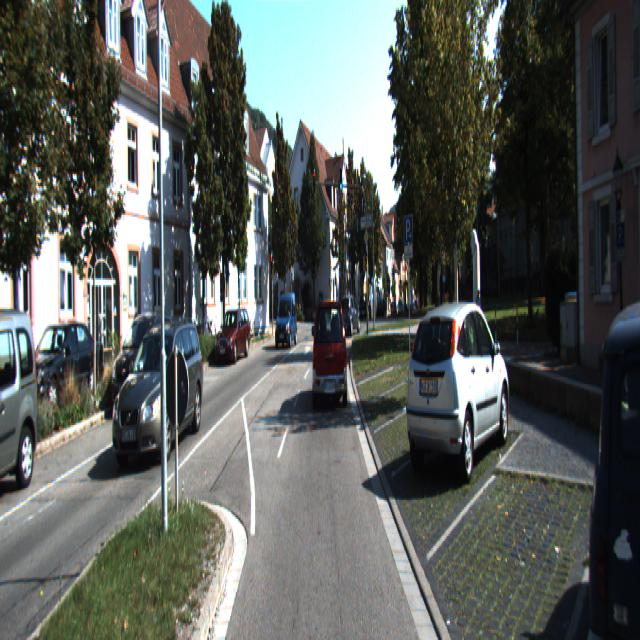Car: (578, 297, 640, 638), (404, 298, 511, 479), (105, 319, 205, 466), (14, 320, 105, 422), (0, 302, 41, 500), (109, 313, 178, 416), (314, 302, 348, 411), (214, 311, 251, 367), (274, 293, 298, 349), (339, 294, 362, 336), (359, 292, 371, 322)
